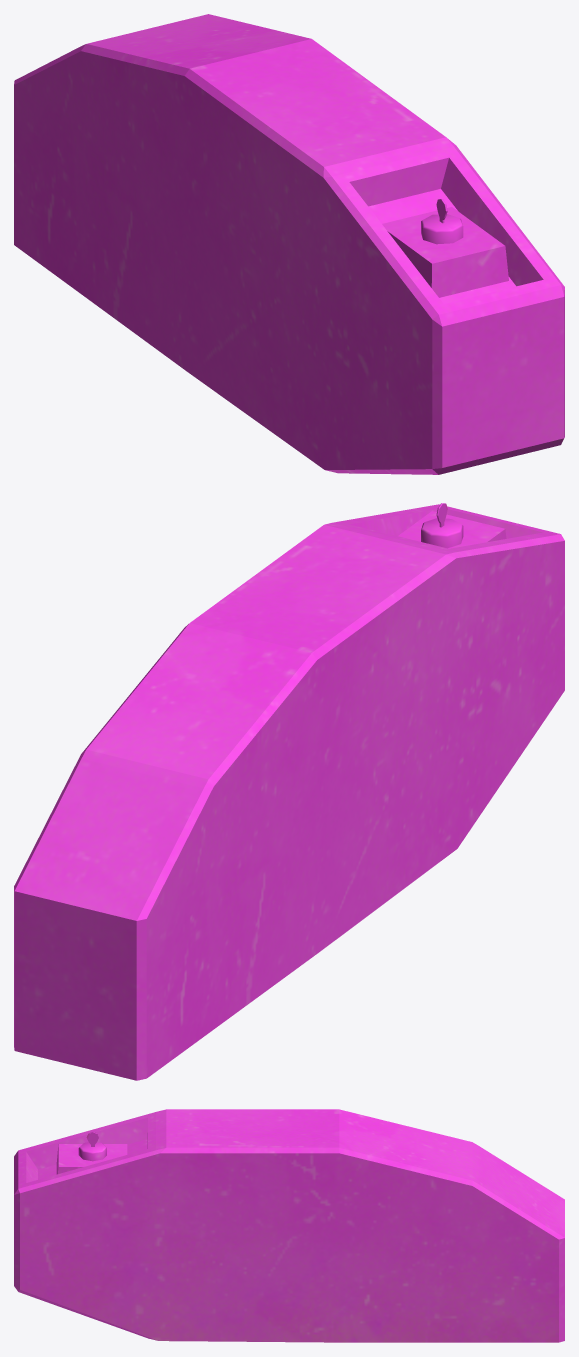
File: ConsoleKeySwitch_01_SM_Low.fbx
3 renders of one model, top to bottom at view 1: azimuth 30°, elevation 25°; view 2: azimuth 150°, elevation 25°; view 3: azimuth 270°, elevation 25°, orthographic. The views are drawn at different scales.
Visible parts, largest first — view 1: KeyHousing, KeyBox, KeySlot; view 2: KeyHousing, KeyBox, KeySlot; view 3: KeyHousing, KeyBox, KeySlot.
Part boxes in pixels (x1,y1,x2,y2): KeyHousing: [14, 14, 564, 474]; KeyBox: [382, 207, 508, 297]; KeySlot: [421, 214, 463, 244]; KeyHousing: [14, 504, 564, 1080]; KeyBox: [398, 511, 506, 548]; KeySlot: [421, 518, 463, 548]; KeyHousing: [14, 1109, 564, 1342]; KeyBox: [56, 1144, 127, 1174]; KeySlot: [78, 1142, 106, 1161].
Size of the model in its own units: 11.46 by 24.73 by 63.95.
Materials: 1 (1 with a texture image).
